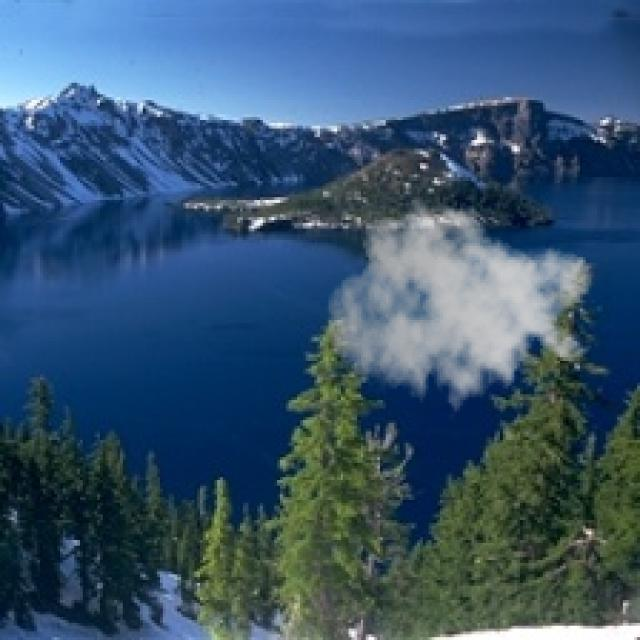smoke: (326, 191, 594, 423)
